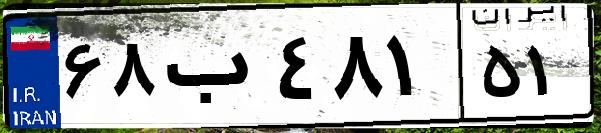1: (385, 28, 445, 110), (525, 38, 570, 115)
4: (270, 28, 330, 110)
5: (475, 38, 525, 113)
6: (57, 26, 110, 100)
8: (330, 28, 385, 110), (110, 28, 158, 98)
ب: (158, 20, 270, 120)
